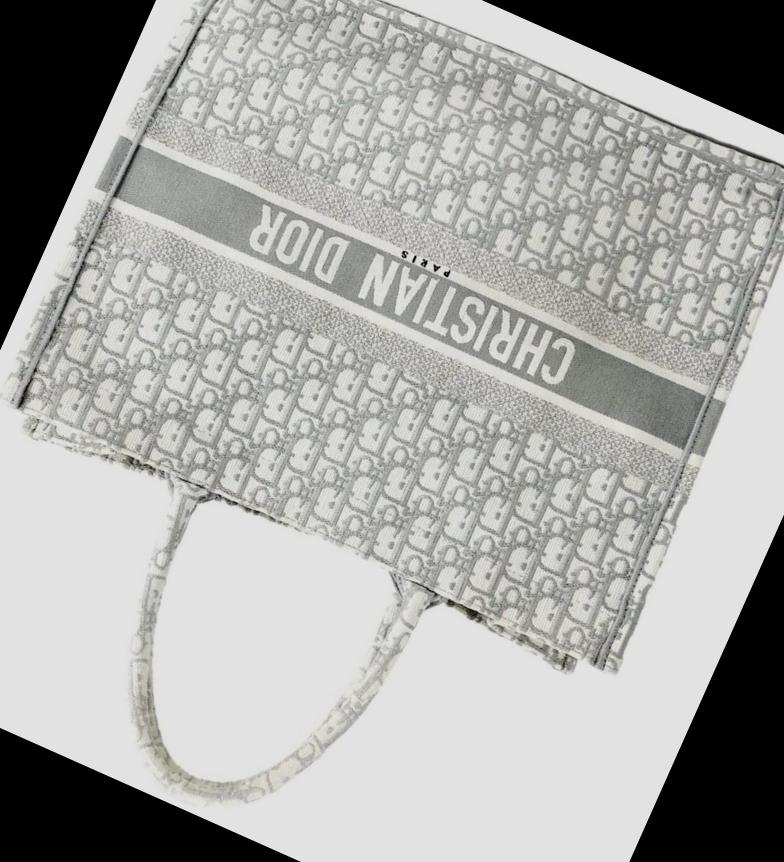DIOR: (213, 160, 614, 422)
